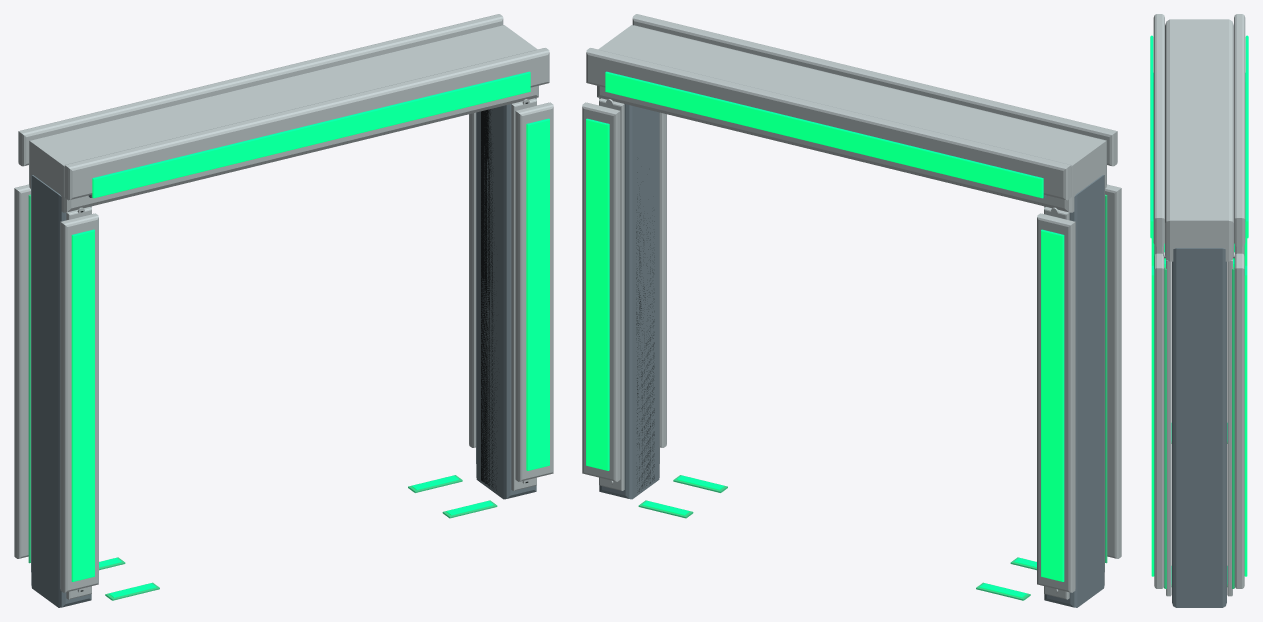
The model's file is genesis-green-airlock.glb.
3 renders of one model, left to right at view 1: azimuth 30°, elevation 25°; view 2: azimuth 150°, elevation 25°; view 3: azimuth 270°, elevation 25°, orthographic. The views are drawn at different scales.
Visible parts, largest first — view 1: green-airlock__titanium, green-airlock__green, green-airlock__graphite, green-airlock__rubber, green-airlock__reflection; view 2: green-airlock__titanium, green-airlock__green, green-airlock__graphite, green-airlock__reflection, green-airlock__rubber; view 3: green-airlock__titanium, green-airlock__graphite, green-airlock__green, green-airlock__reflection.
Boxes of the visible parts, x1,y1,x2,y2 form: green-airlock__titanium: [14, 14, 553, 599]; green-airlock__green: [71, 71, 549, 597]; green-airlock__graphite: [31, 98, 536, 607]; green-airlock__rubber: [80, 102, 528, 591]; green-airlock__reflection: [28, 194, 497, 600]; green-airlock__titanium: [582, 14, 1121, 599]; green-airlock__green: [586, 71, 1064, 597]; green-airlock__graphite: [599, 98, 1104, 607]; green-airlock__reflection: [638, 194, 1107, 600]; green-airlock__rubber: [636, 172, 654, 492]; green-airlock__titanium: [1153, 14, 1245, 596]; green-airlock__graphite: [1172, 248, 1226, 607]; green-airlock__green: [1150, 35, 1248, 584]; green-airlock__reflection: [1164, 267, 1234, 588].
Size of the model in its own units: 3.92 by 3.43 by 0.782.
5 materials, 1 textured.
